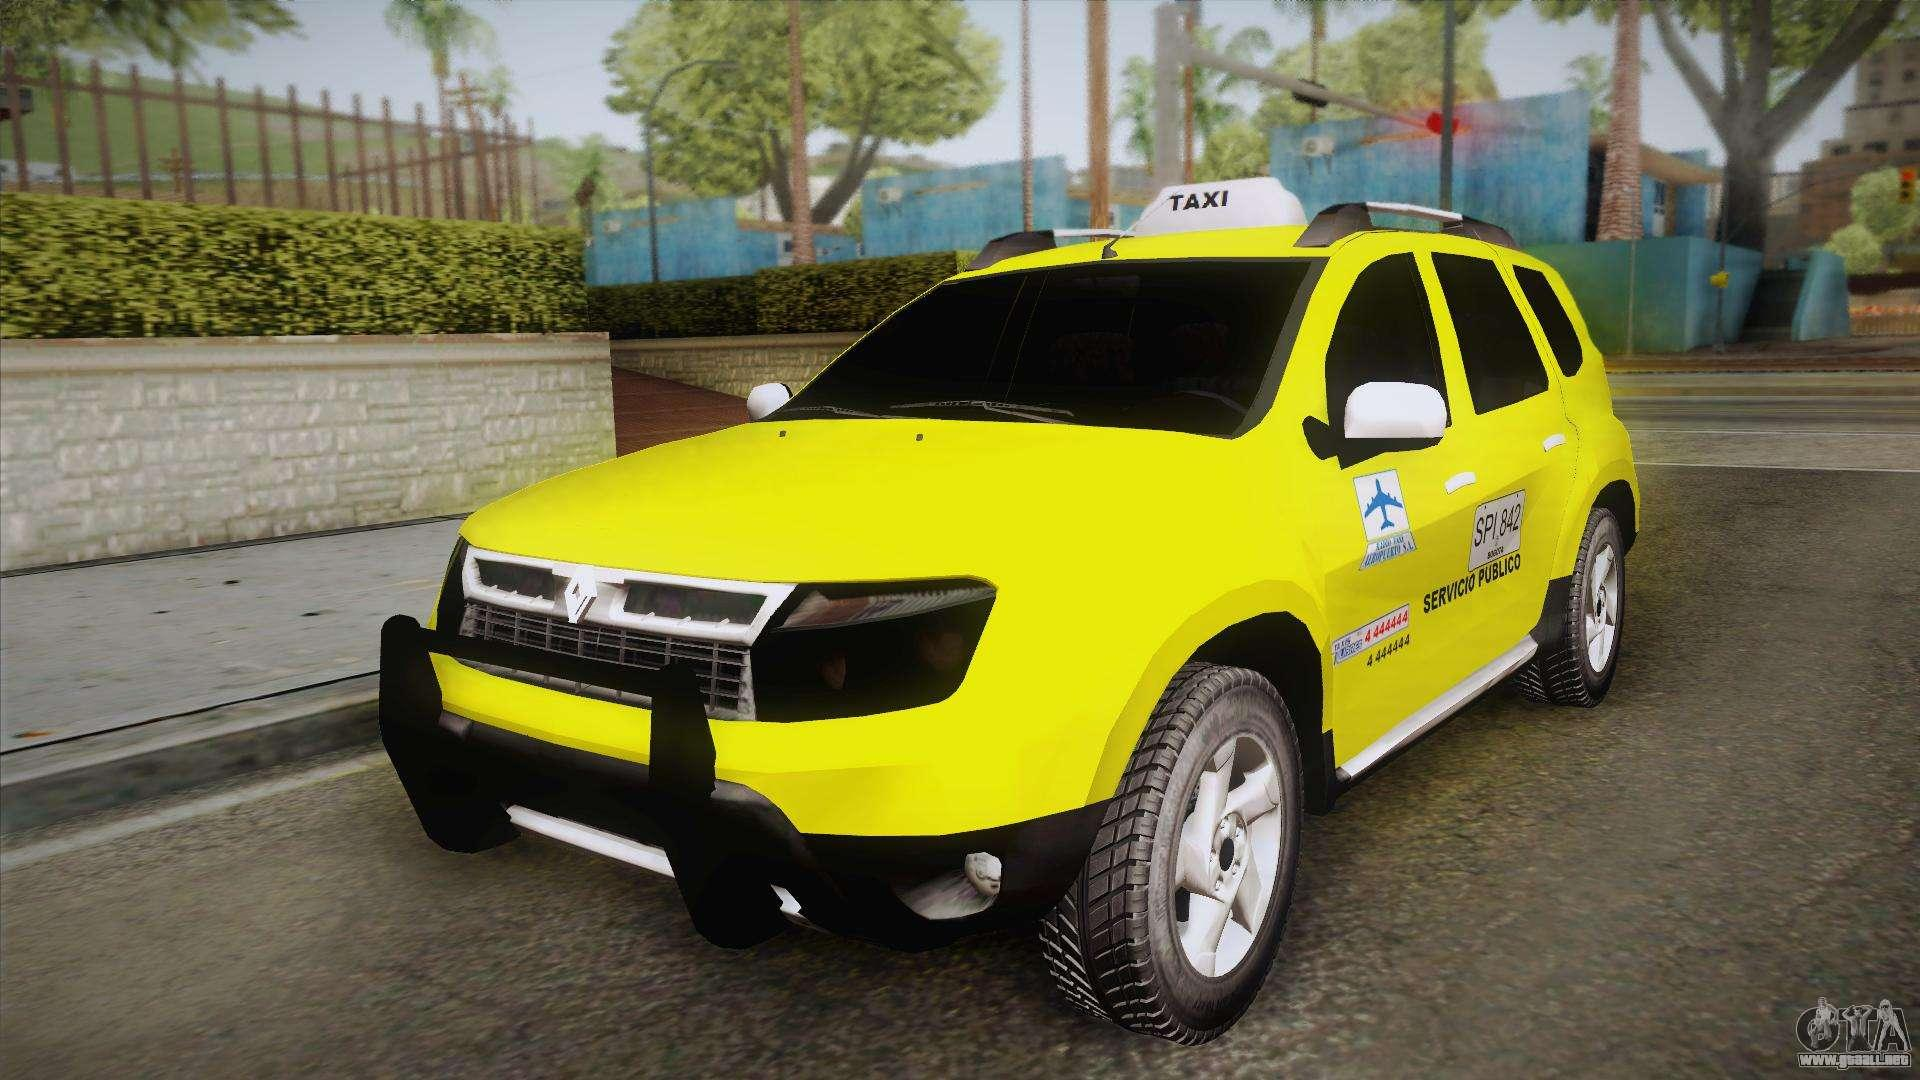taxi: (427, 185, 1750, 1058)
